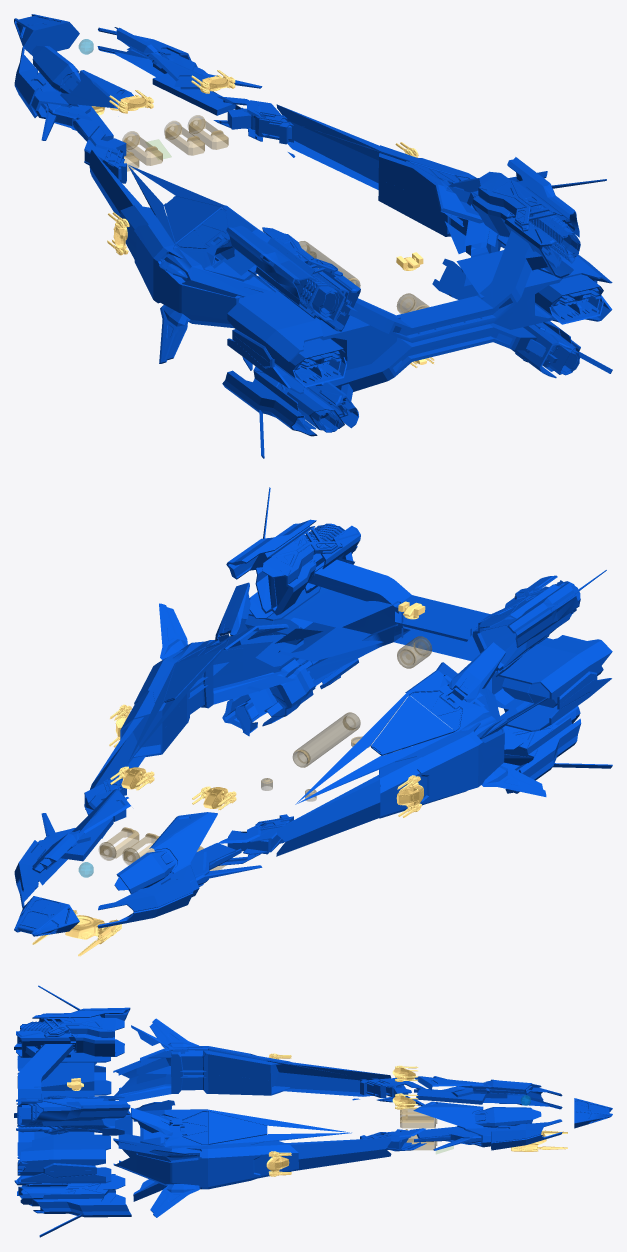
File: JMBN_Polaris_Base.glb
3 renders of one model, top to bottom at view 1: azimuth 30°, elevation 25°; view 2: azimuth 150°, elevation 25°; view 3: azimuth 270°, elevation 25°, orthographic. The views are drawn at different scales.
Visible parts, largest first — view 1: polaris_base003, polaris_base009, polaris_base010, engines, polaris_base004, polaris_base001, Plane034, polaris_base007, Plane034_1; view 2: polaris_base003, polaris_base009, polaris_base010, polaris_base001, polaris_base004, engines, Plane034_1, Plane034, polaris_base007, Plane086_1; view 3: polaris_base003, polaris_base009, polaris_base001, polaris_base004, engines, polaris_base010, Plane034, polaris_base007, polaris_remote_turret_reartop_guns.
Part boxes in pixels (bbox=[...]): polaris_base003: bbox=[14, 14, 612, 458]; polaris_base009: bbox=[120, 145, 561, 370]; polaris_base010: bbox=[329, 230, 549, 404]; engines: bbox=[274, 205, 603, 432]; polaris_base004: bbox=[60, 53, 293, 183]; polaris_base001: bbox=[89, 104, 491, 297]; Plane034: bbox=[123, 115, 360, 285]; polaris_base007: bbox=[31, 49, 197, 118]; Plane034_1: bbox=[122, 115, 360, 287]; polaris_base003: bbox=[14, 487, 612, 936]; polaris_base009: bbox=[120, 587, 552, 818]; polaris_base010: bbox=[306, 552, 508, 712]; polaris_base001: bbox=[90, 634, 496, 856]; polaris_base004: bbox=[72, 775, 293, 873]; engines: bbox=[245, 523, 603, 725]; Plane034_1: bbox=[98, 712, 371, 865]; Plane034: bbox=[99, 712, 362, 870]; polaris_base007: bbox=[25, 835, 199, 896]; Plane086_1: bbox=[397, 636, 431, 667]; polaris_base003: bbox=[16, 985, 612, 1237]; polaris_base009: bbox=[34, 1046, 298, 1187]; polaris_base001: bbox=[113, 1058, 391, 1184]; polaris_base004: bbox=[360, 1076, 483, 1151]; engines: bbox=[14, 1021, 76, 1206]; polaris_base010: bbox=[18, 1043, 74, 1142]; Plane034: bbox=[400, 1108, 433, 1150]; polaris_base007: bbox=[464, 1088, 525, 1147]; polaris_remote_turret_reartop_guns: bbox=[511, 1130, 567, 1151].
Size of the model in its own units: 3.28 by 1.59 by 6.32.
